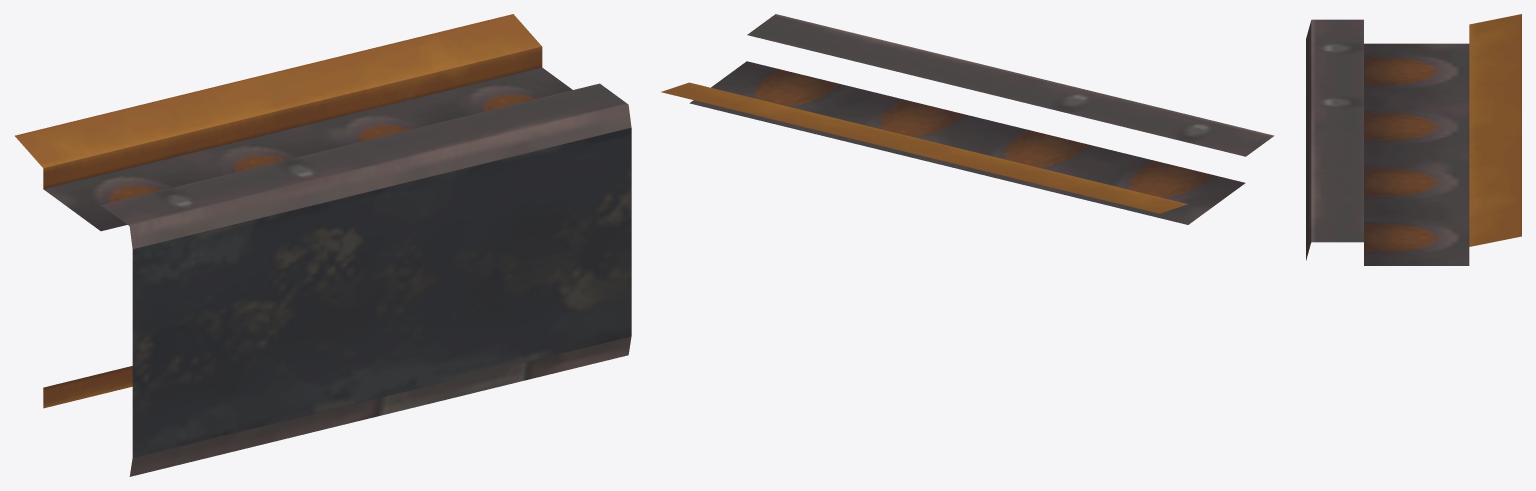
Rendered from conveyor_x2_02.glb.
3 renders of one model, left to right at view 1: azimuth 30°, elevation 25°; view 2: azimuth 150°, elevation 25°; view 3: azimuth 270°, elevation 25°, orthographic. The views are drawn at different scales.
Parts seen in each view (by area): view 1: factory.conveyor_x2_02-MeshNodes["belt_on"], factory.conveyor_x2_02-MeshNodes["conveyor_base"]; view 2: factory.conveyor_x2_02-MeshNodes["conveyor_base"]; view 3: factory.conveyor_x2_02-MeshNodes["conveyor_base"].
Part boxes in pixels (x1,y1,x2,y2): factory.conveyor_x2_02-MeshNodes["belt_on"]: (132,127,631,457); factory.conveyor_x2_02-MeshNodes["conveyor_base"]: (15,14,631,476); factory.conveyor_x2_02-MeshNodes["conveyor_base"]: (661,14,1274,224); factory.conveyor_x2_02-MeshNodes["conveyor_base"]: (1306,14,1521,265).
Bounding box in the file's own units: 2 × 1.01 × 0.82.
2 materials, 2 textured.
